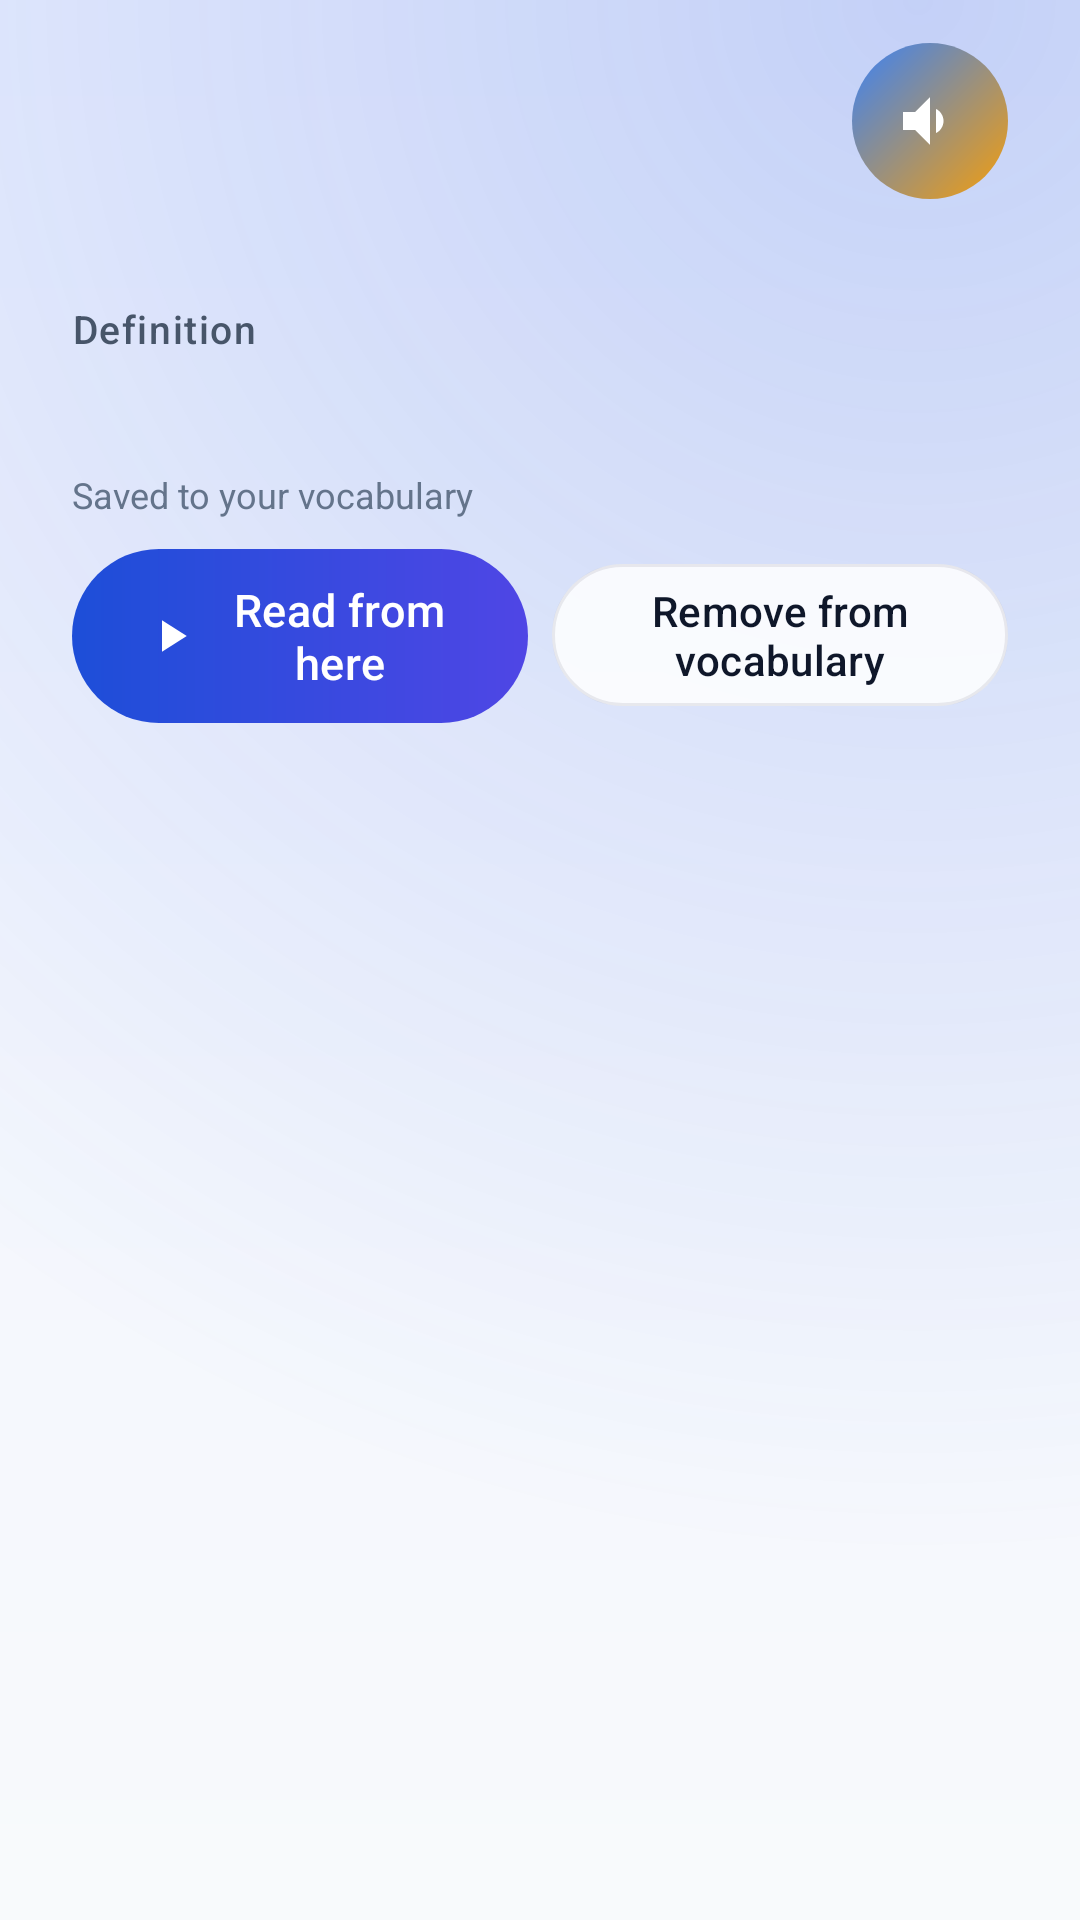

Icon click points for this 1080*1920 phone screenshot, format (x=x, y=y):
volume: (x=930, y=121)
